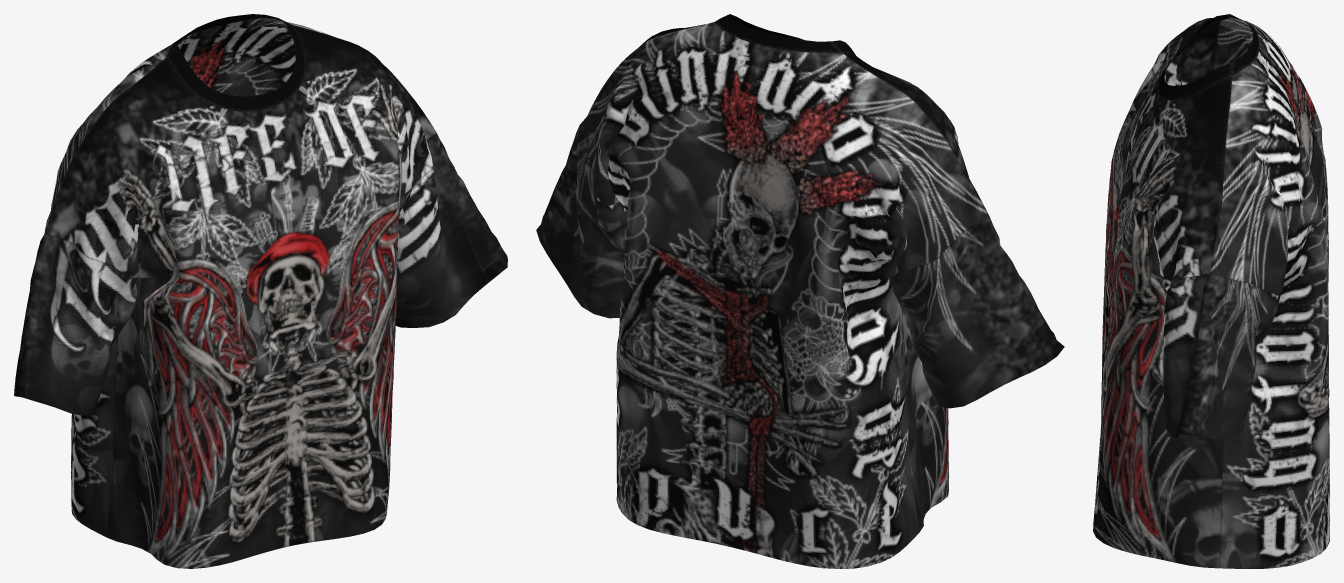
File: LIFE OF HUGO.glb
3 renders of one model, left to right at view 1: azimuth 30°, elevation 25°; view 2: azimuth 150°, elevation 25°; view 3: azimuth 270°, elevation 25°, orthographic. The views are drawn at different scales.
Parts seen in each view (by area): view 1: Cloth.004; view 2: Cloth.004; view 3: Cloth.004.
Boxes of the visible parts, bbox=[...] form: Cloth.004: bbox=[14, 14, 507, 568]; Cloth.004: bbox=[536, 14, 1064, 568]; Cloth.004: bbox=[1093, 14, 1329, 568].
Bounding box in the file's own units: 0.7614 × 0.6918 × 0.3149.
1 material, 1 textured.
